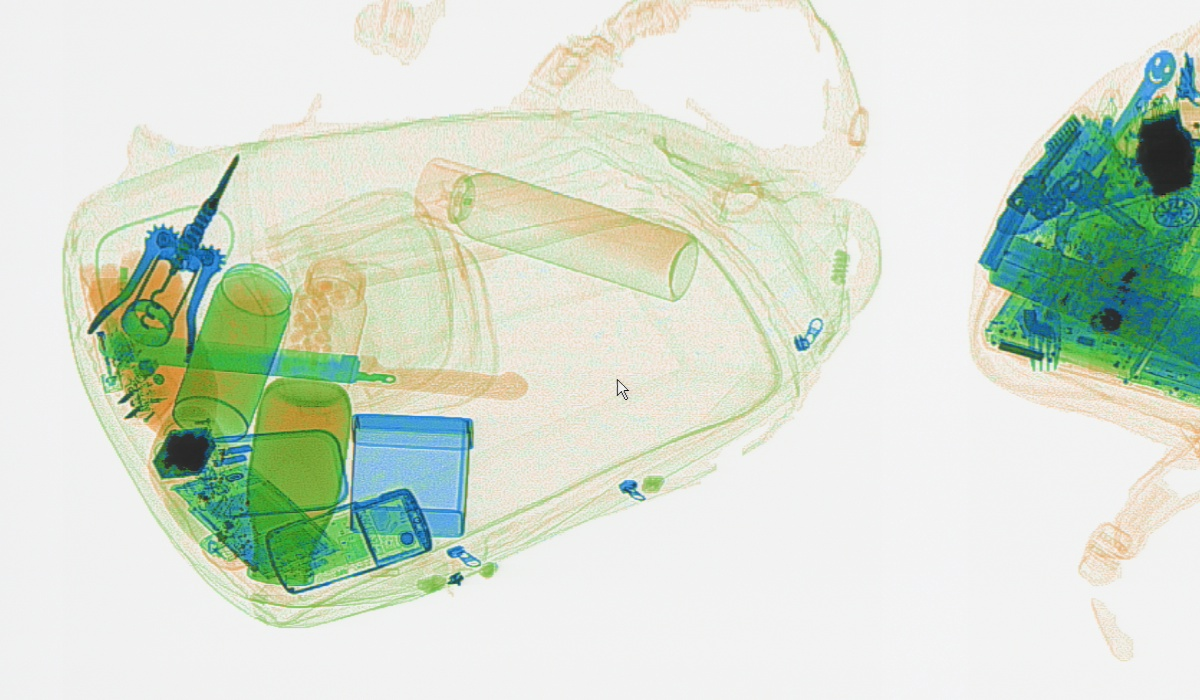knife: (92, 326, 530, 400)
lighter: (75, 262, 127, 394)
powerbank: (980, 221, 1197, 353)
pressure: (411, 150, 701, 304)
